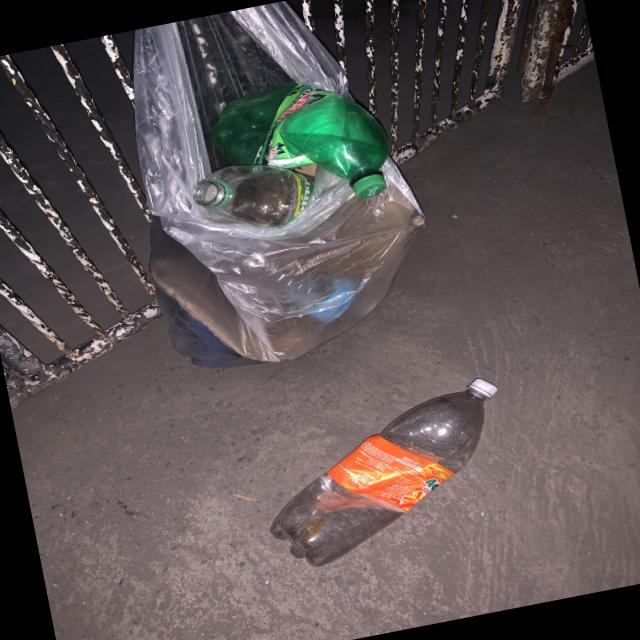Bottle: (271, 378, 497, 566)
